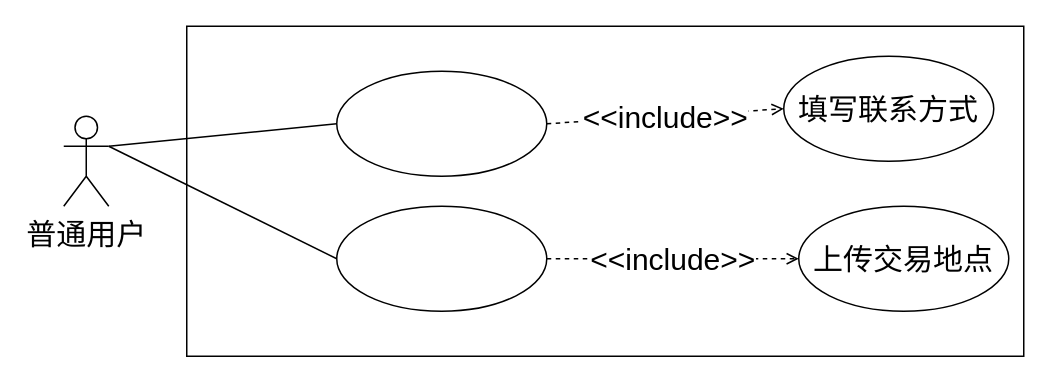
Some shapes in this 1050 by 383 pixel diagram are drawn without their labels. Here are the shapes that lost their labels. From the top down, the centre of each, then its label:
At (x=441, y=123): "上传联系方式".
At (x=441, y=258): "发布交易信息".
